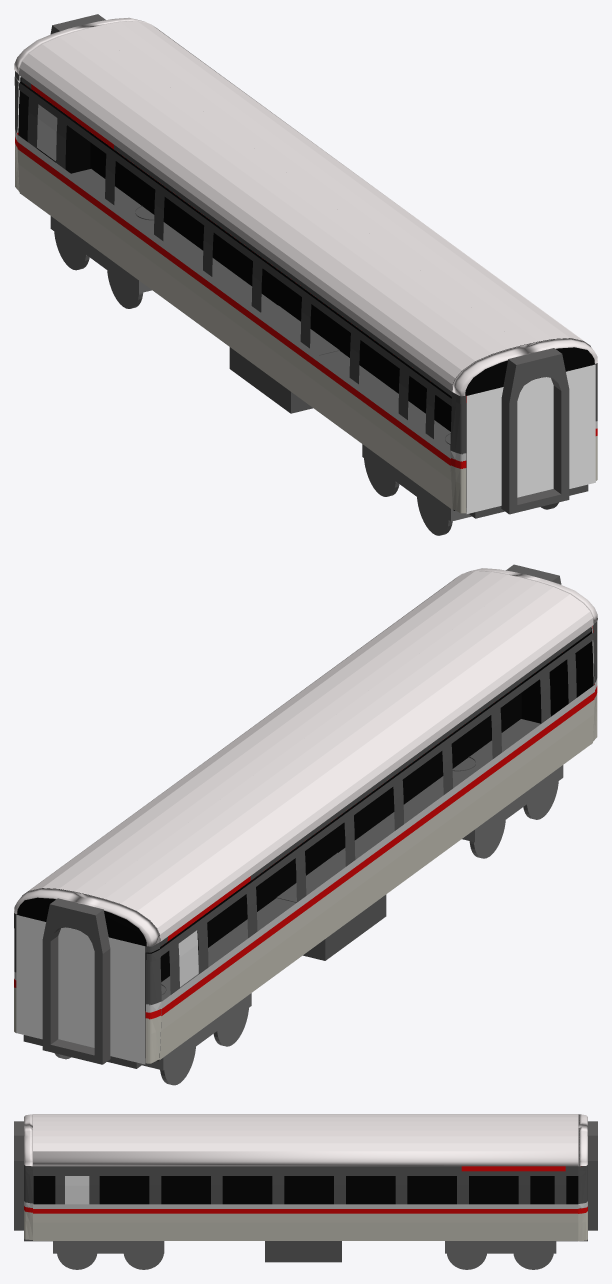
Rendered from br-mk2-tsot-ic.dae.
The picture shows the model from 3 angles, top to bottom: view 1: azimuth 30°, elevation 25°; view 2: azimuth 150°, elevation 25°; view 3: azimuth 270°, elevation 25°; orthographic projection. The views are drawn at different scales.
Visible parts, largest first — view 1: Suzanne_001, Plane_031, Plane_100, Plane_009, Tube_002, Plane_002, Plane_088, Plane_029, Plane_030, Suzanne, Cube, Plane_117 (+10 smaller); view 2: Suzanne_001, Plane_031, Plane_001, Plane_009, Tube_003, Plane_002, Plane_088, Plane_029, Plane_030, Suzanne_006, Cube, Plane (+10 smaller); view 3: Suzanne_001, Plane_007, Plane_009, Plane_006, Plane_004, Plane_005, Plane_022, Cube, Cube_042, Cube_002, Tube_003, Tube_002 (+19 smaller).
Boxes of the visible parts, x1,y1,x2,y2 form: Suzanne_001: (19, 21, 590, 391); Plane_031: (18, 149, 452, 509); Plane_100: (466, 364, 595, 513); Plane_009: (90, 132, 451, 431); Tube_002: (501, 348, 569, 514); Plane_002: (71, 169, 450, 450); Plane_088: (19, 82, 452, 406); Plane_029: (17, 135, 450, 458); Plane_030: (17, 142, 450, 465); Suzanne: (452, 338, 597, 396); Cube: (229, 305, 339, 413); Plane_117: (21, 77, 451, 396); Suzanne_001: (22, 571, 593, 941); Plane_031: (159, 699, 594, 1059); Plane_001: (16, 915, 145, 1064); Plane_009: (158, 683, 521, 981); Tube_003: (42, 898, 110, 1064); Plane_002: (159, 719, 540, 1057); Plane_088: (160, 633, 593, 956); Plane_029: (161, 685, 594, 1008); Plane_030: (161, 692, 594, 1015); Suzanne_006: (14, 888, 160, 946); Cube: (276, 852, 386, 960); Plane: (521, 628, 593, 723); Suzanne_001: (33, 1114, 578, 1166); Plane_007: (33, 1213, 578, 1240); Plane_009: (33, 1176, 580, 1208); Plane_006: (33, 1166, 578, 1171); Plane_004: (33, 1171, 578, 1175); Plane_005: (33, 1209, 578, 1213); Plane_022: (33, 1204, 578, 1208); Cube: (265, 1241, 341, 1262); Cube_042: (53, 1241, 164, 1253); Cube_002: (445, 1241, 556, 1253); Tube_003: (587, 1121, 597, 1230); Tube_002: (14, 1121, 24, 1230).
Size of the model in its own units: 2.06 by 11.39 by 2.72.
